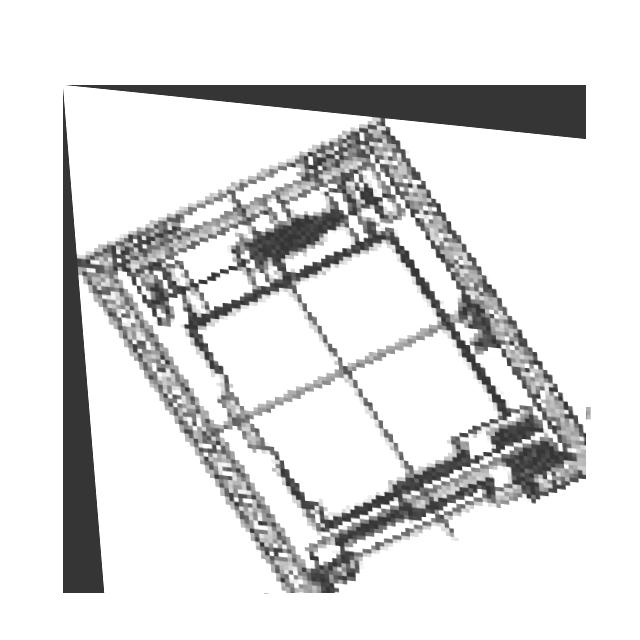lift: (63, 85, 586, 593)
